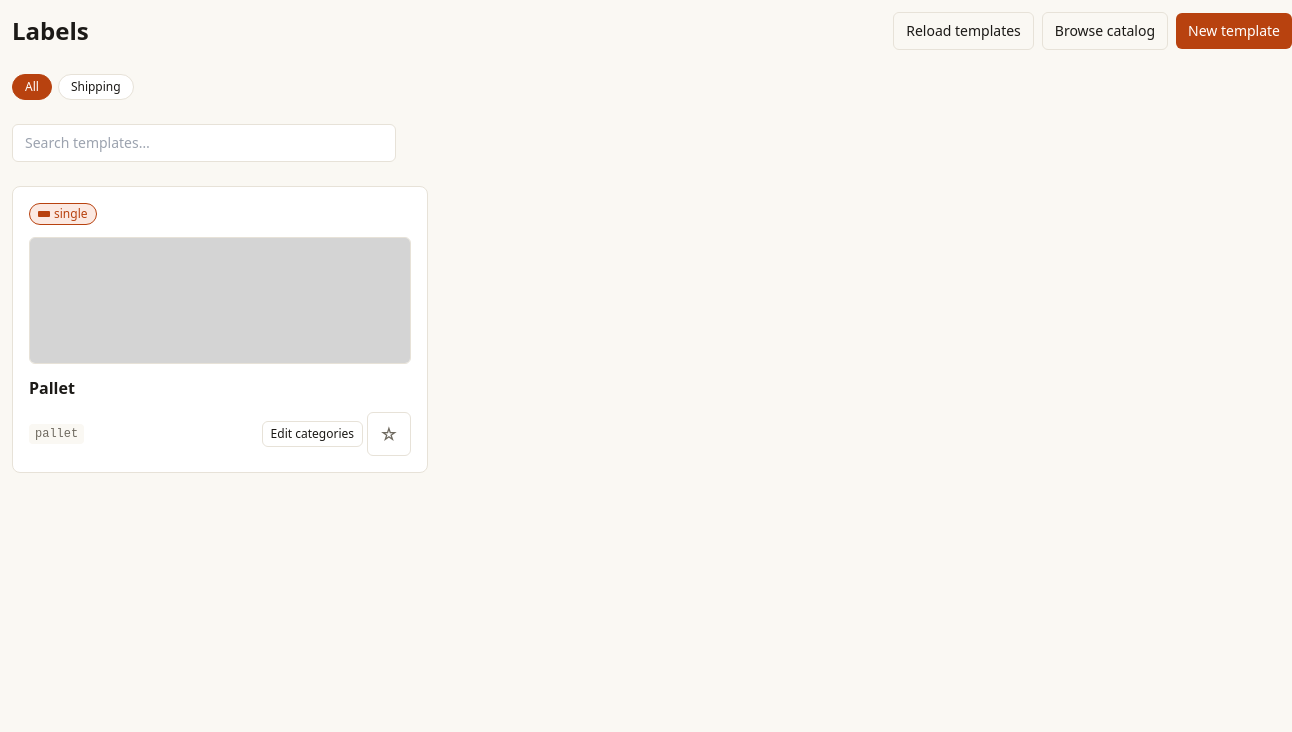
Test: Templates list › returns a removed filter to All when the save settles after the editor is cancelled
expect the heading "Pallet" is shown: met, box [29,377,75,399]
Click the button "Shipping". click: point(96, 87)
box: [58,74,134,100]
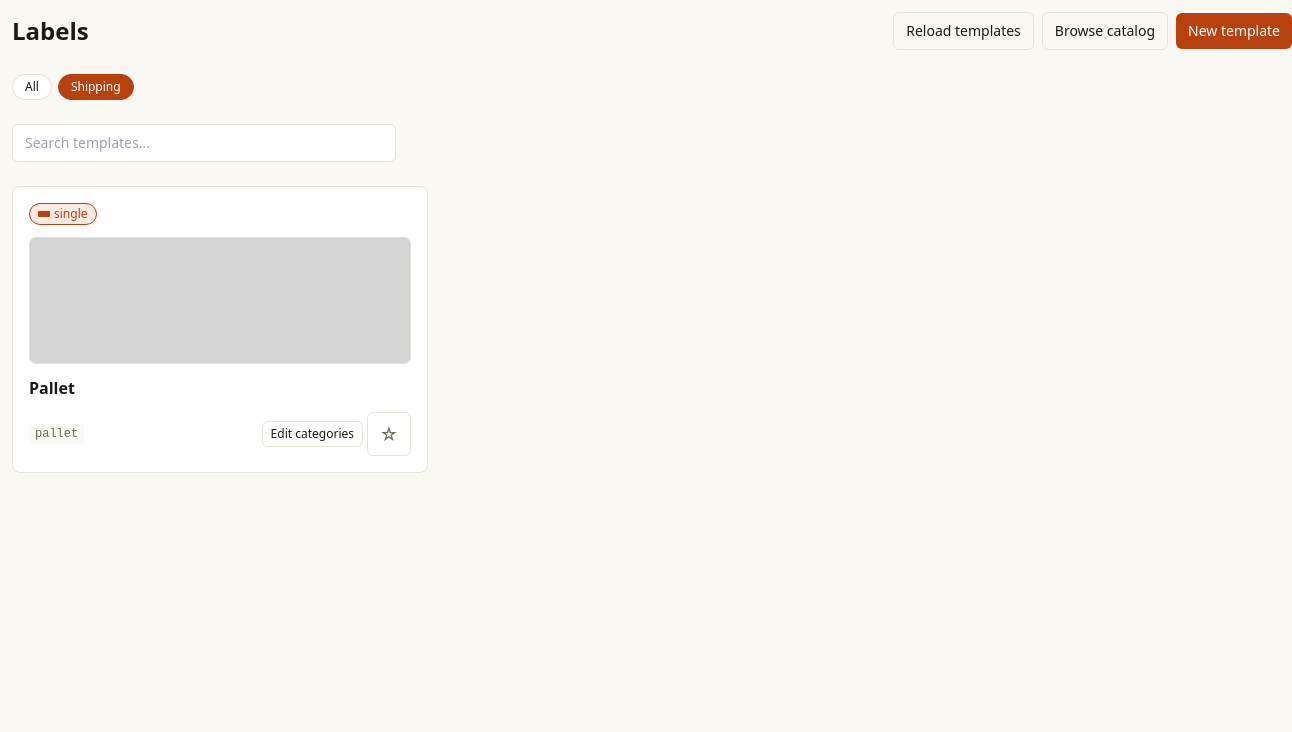
Click the button "Edit categories". click: point(312, 434)
box: [262,421,363,447]
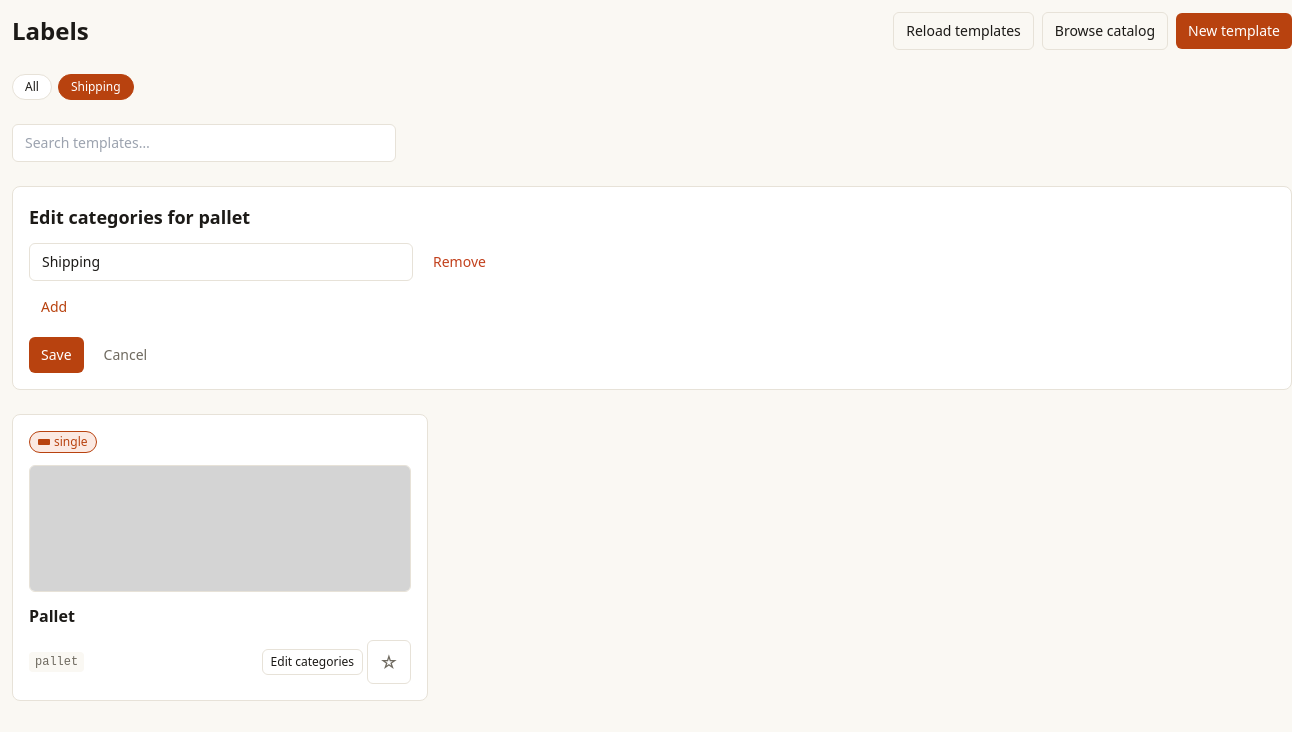
Replace the text in the field named "Category 1" with "Warehouse". click: point(221, 262)
box: [29,243,413,281]
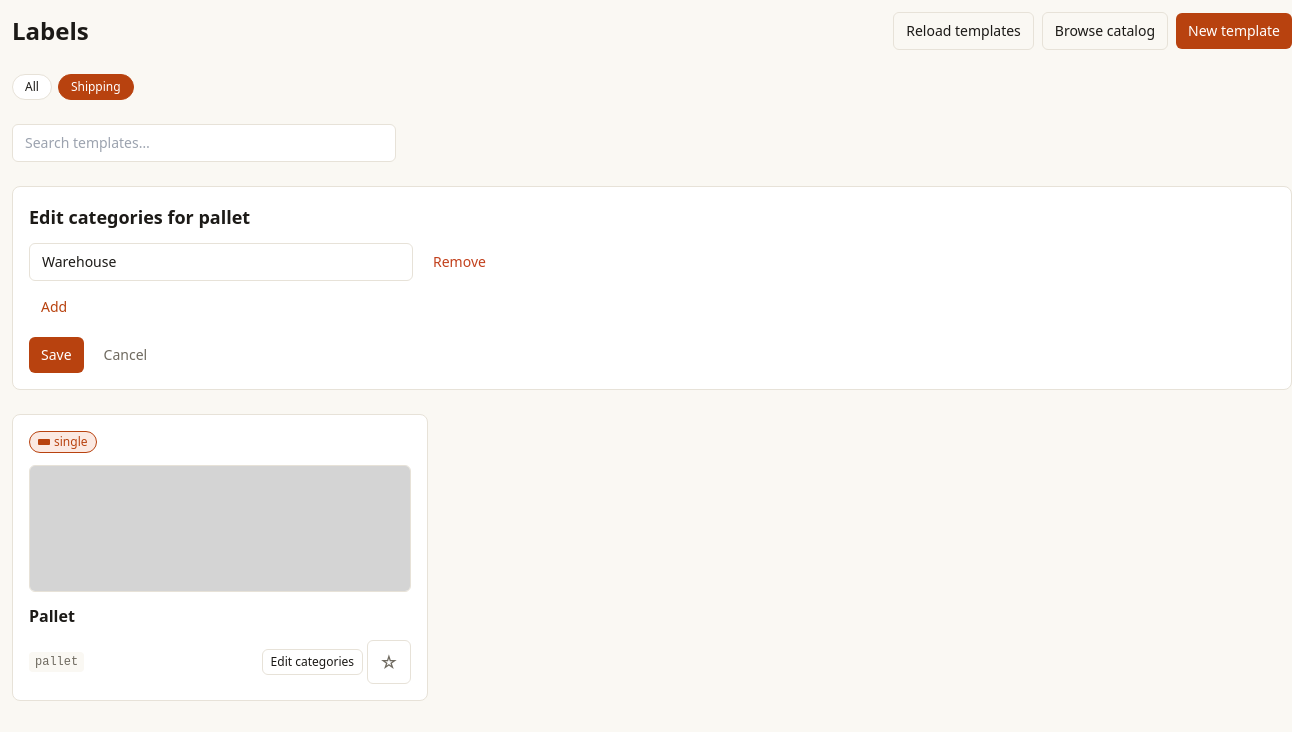
Click the button "Save". click: point(56, 355)
box: [29,337,84,373]
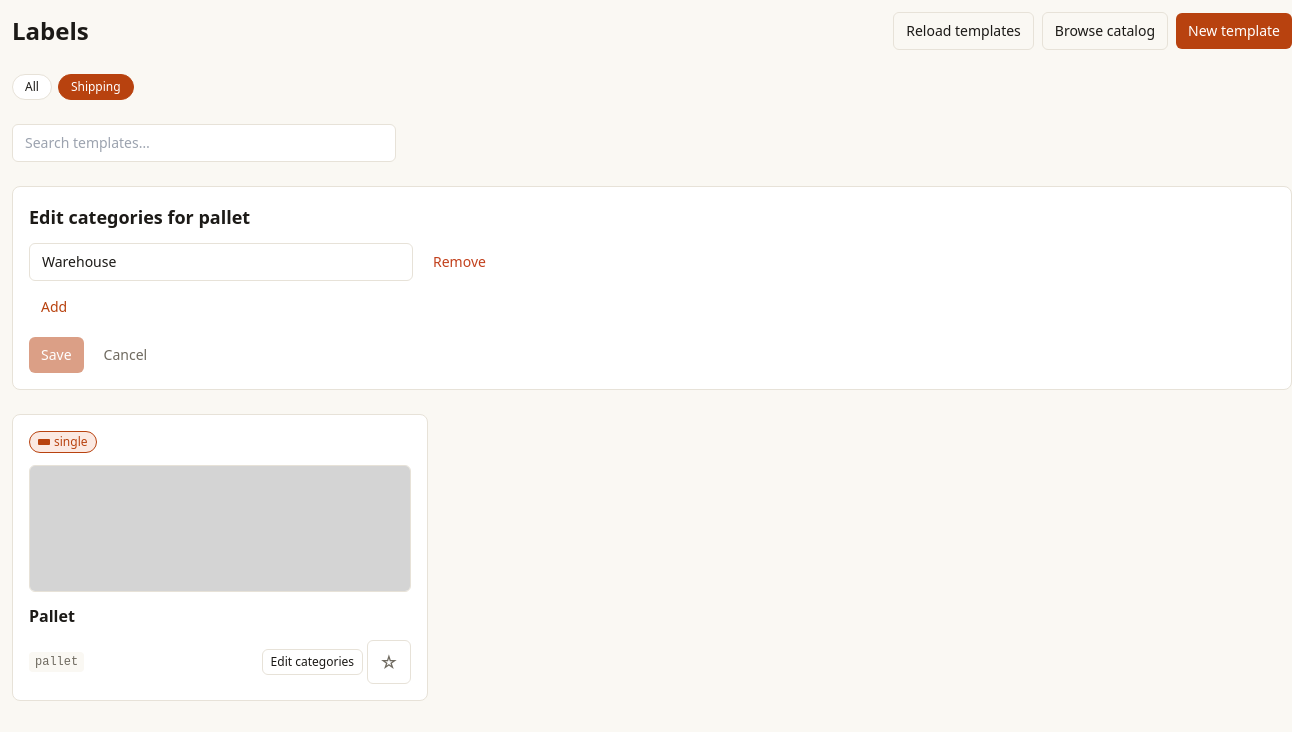
Click the button "Cancel". click: point(125, 355)
box: [92,337,159,373]
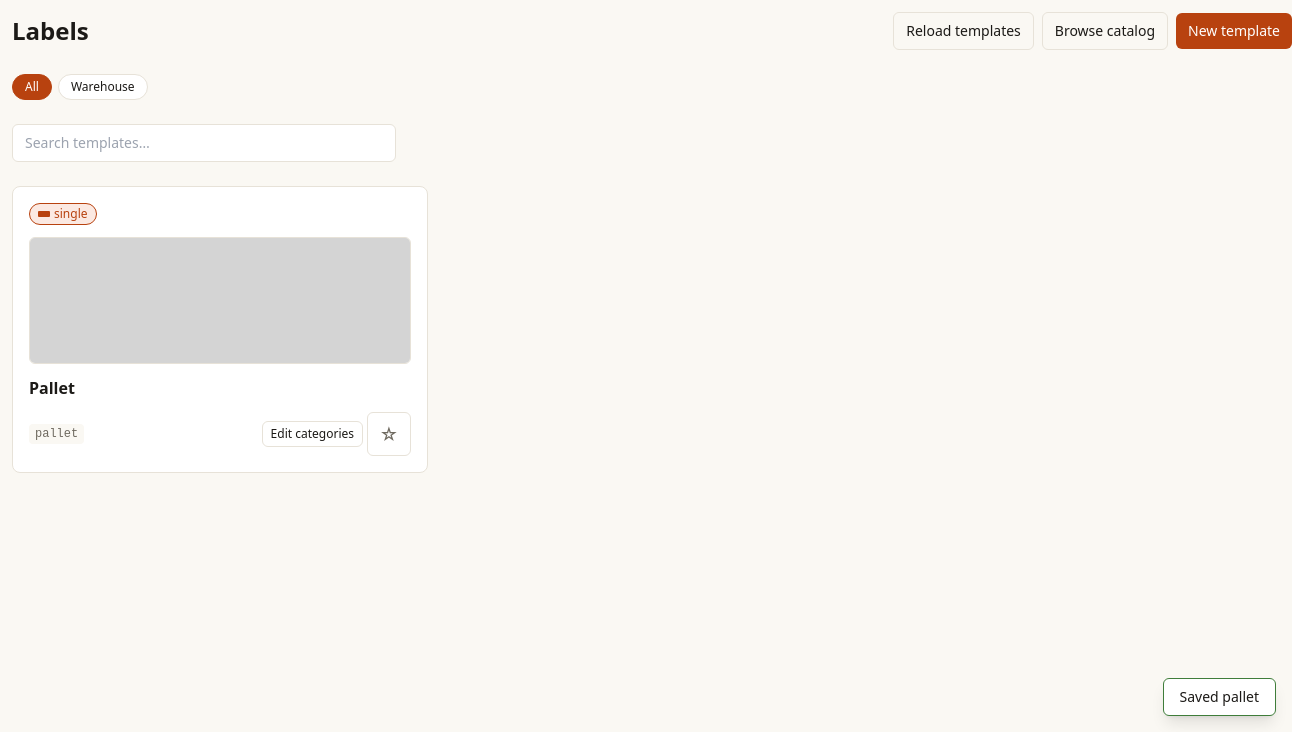
expect the heading "Edit categories for pallet" is gone: met
expect the button "Shipping" is gone: met
expect the button "Warehouse" is shown: met, box [58,74,148,100]
